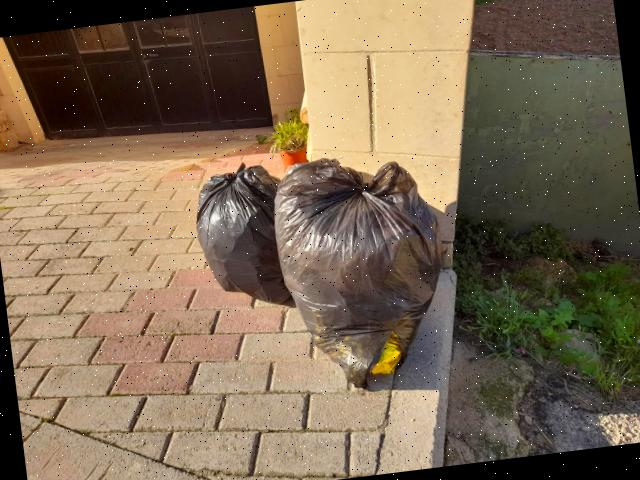Mixed -Black-: (274, 159, 441, 390), (196, 163, 295, 306)
